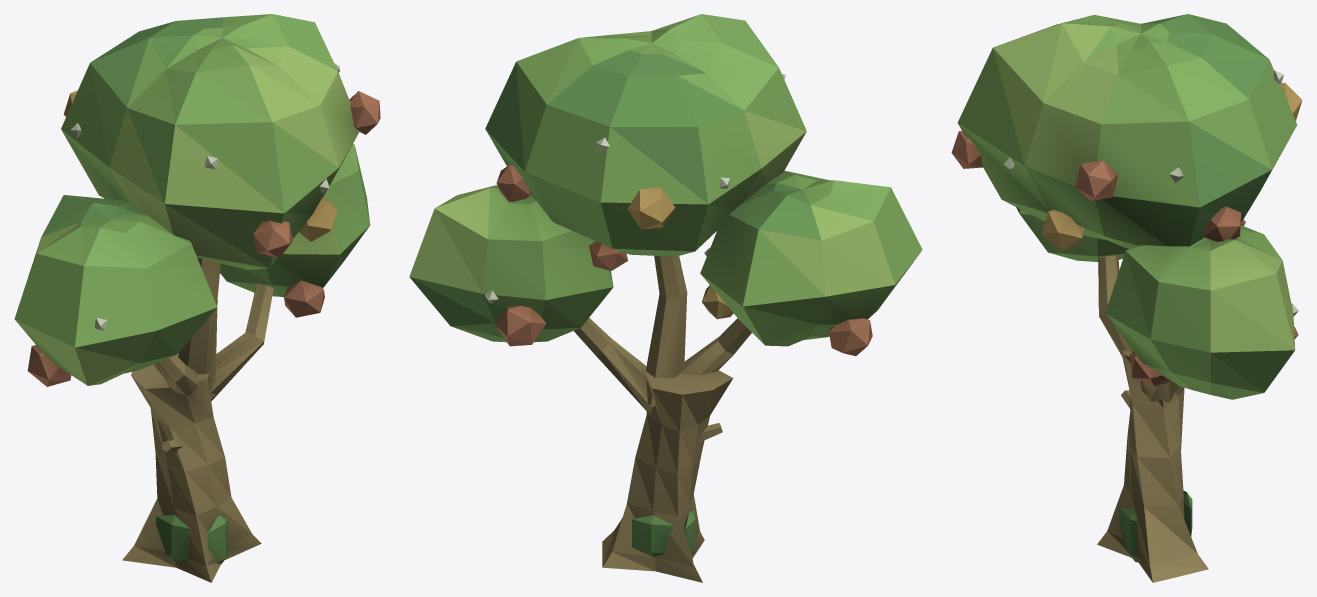
Rendered from lemon.glb.
3 renders of one model, left to right at view 1: azimuth 30°, elevation 25°; view 2: azimuth 150°, elevation 25°; view 3: azimuth 270°, elevation 25°, orthographic. The views are drawn at different scales.
Parts seen in each view (by area): view 1: lemon; view 2: lemon; view 3: lemon.
Boxes of the visible parts, left/top/right/bottom form: lemon: left=14, top=14, right=380, bottom=582; lemon: left=409, top=14, right=922, bottom=582; lemon: left=951, top=14, right=1302, bottom=582.
Bounding box in the file's own units: 3.06 × 3.8 × 2.25.
